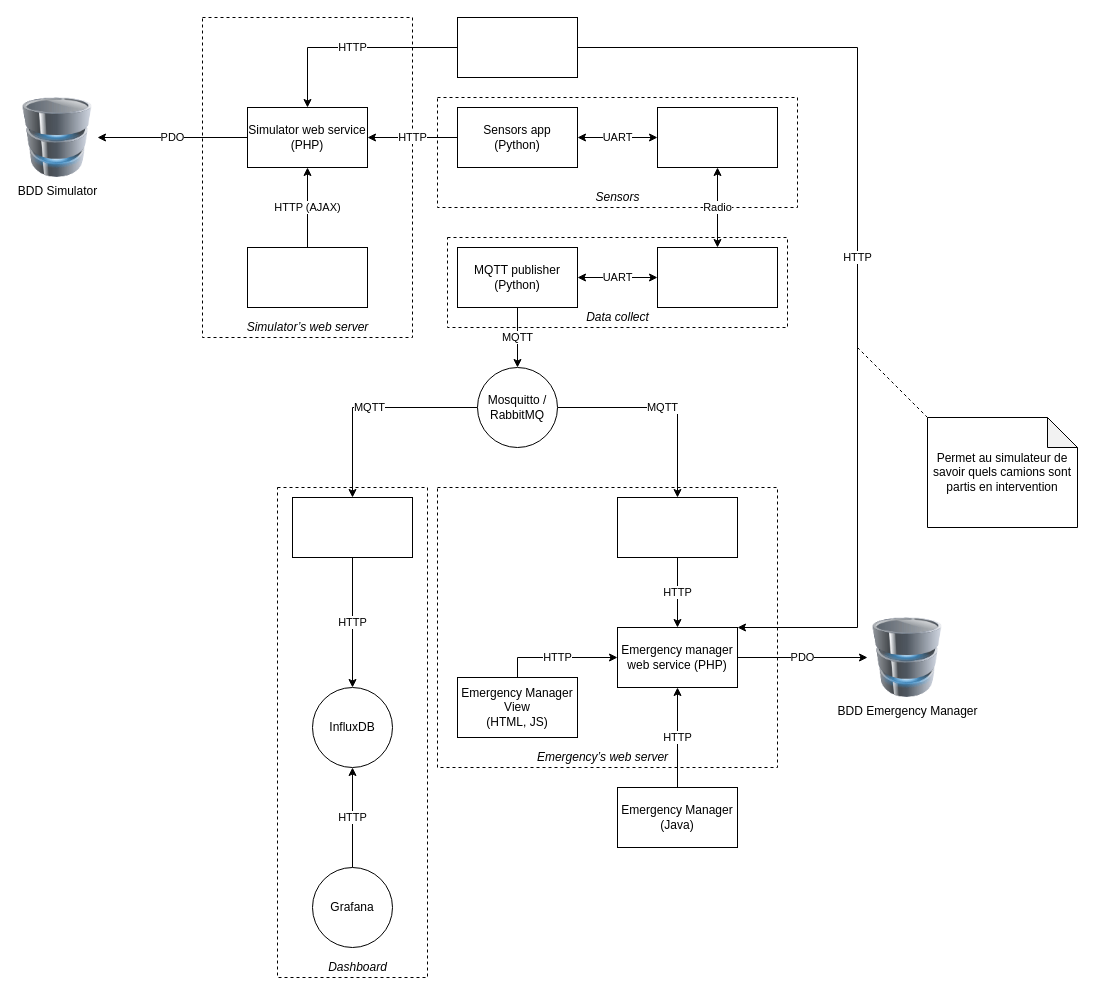
Some shapes in this 1095 by 995 pixel diagram are drawn without their labels. The shapes that lost their labels are listed below. From the top down, each one's centre as x and y in pixels, then its label:
point (517, 47): Simulator (Java)
point (717, 137): micro:bit RF1 (Python)
point (307, 277): Simulator view (HTML, JS)
point (717, 277): micro:bit RF2 (Python)
point (352, 527): Import InfluxDB (Python)
point (677, 527): MQTT to Emergency (Python)
